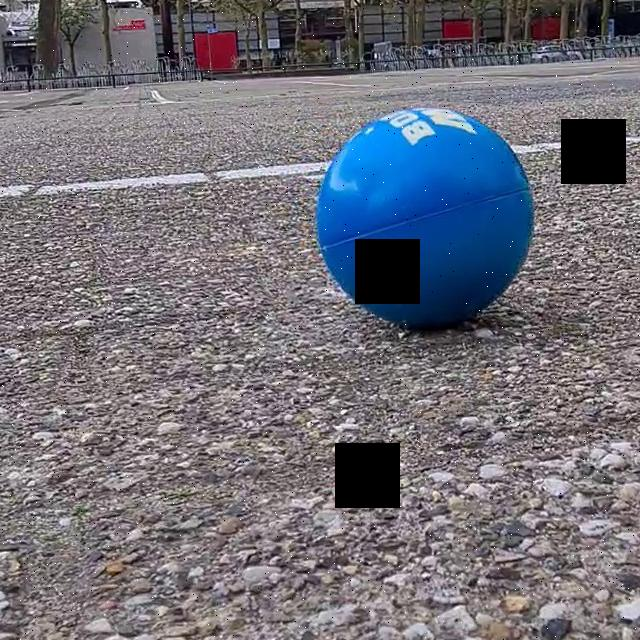ball: (312, 103, 540, 336)
